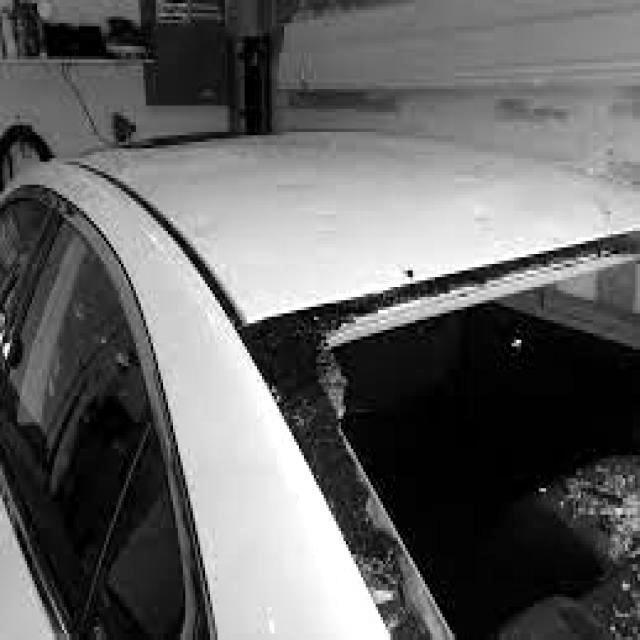Rear-windscreen-Damage: (223, 234, 638, 636)
